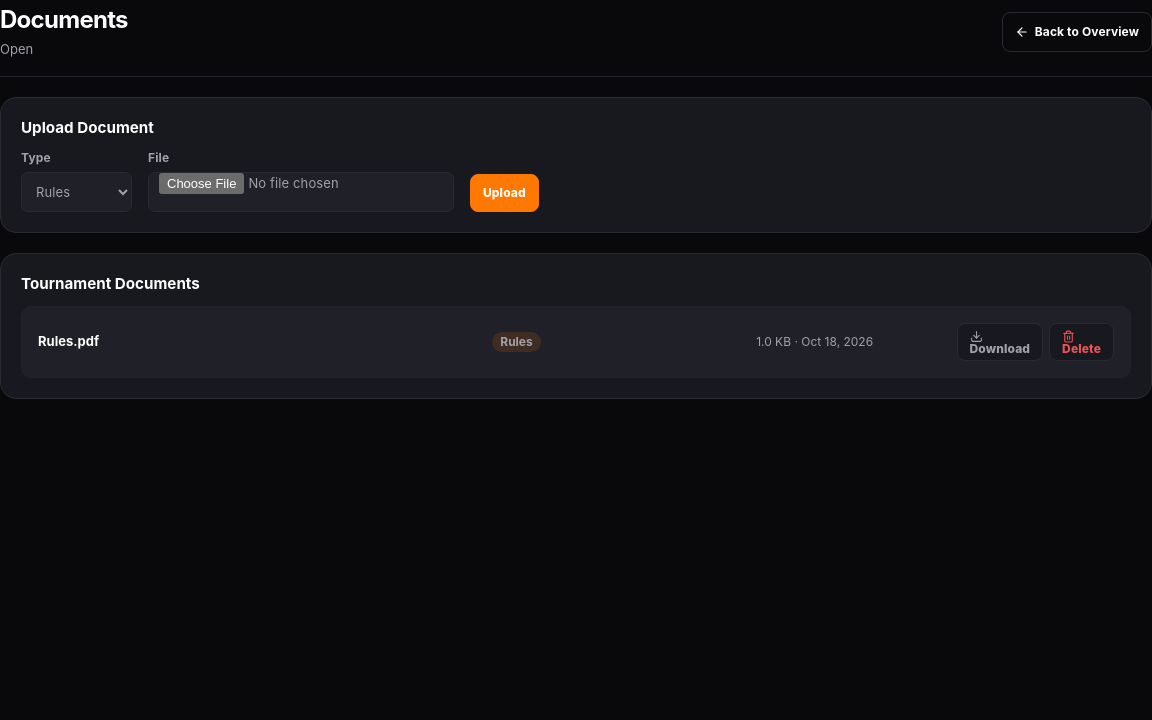
document deletion confirmation › surfaces a failed confirmed deletion and retains the document
This screenshot has width=1152, height=720.
Click the button with aria-label "Delete Rules.pdf".
click(1082, 342)  # box [1049, 323, 1114, 361]
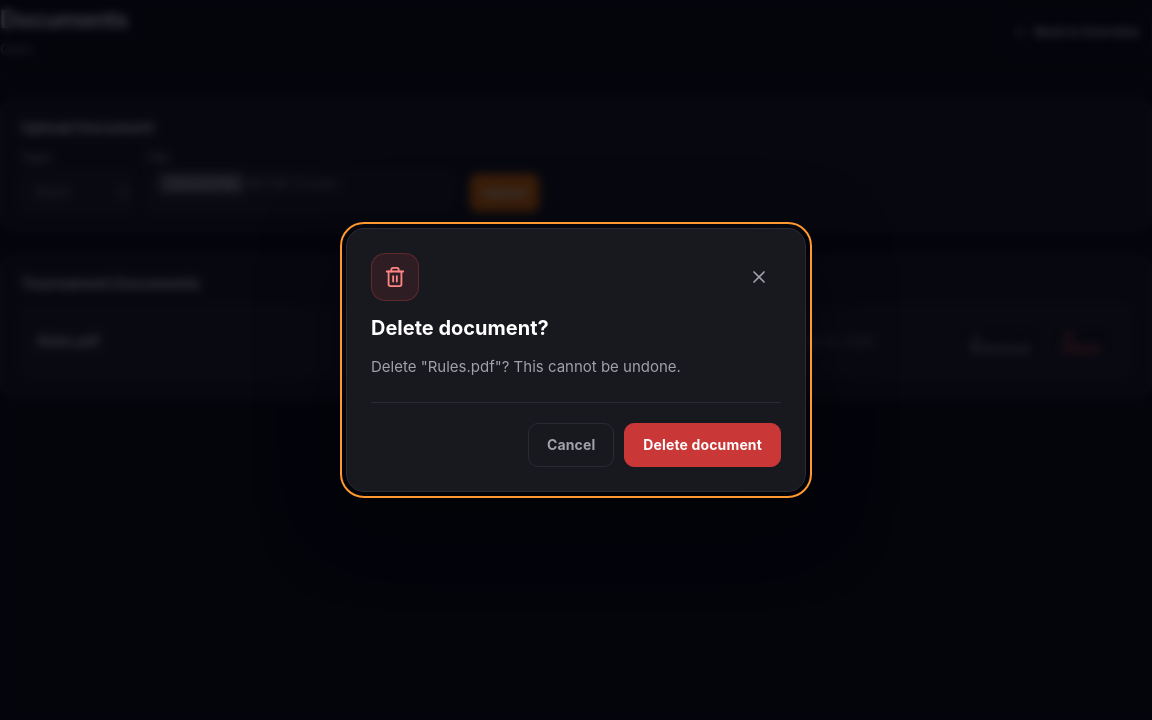
Click the button "Delete document".
click(703, 445)  # box [624, 423, 781, 467]
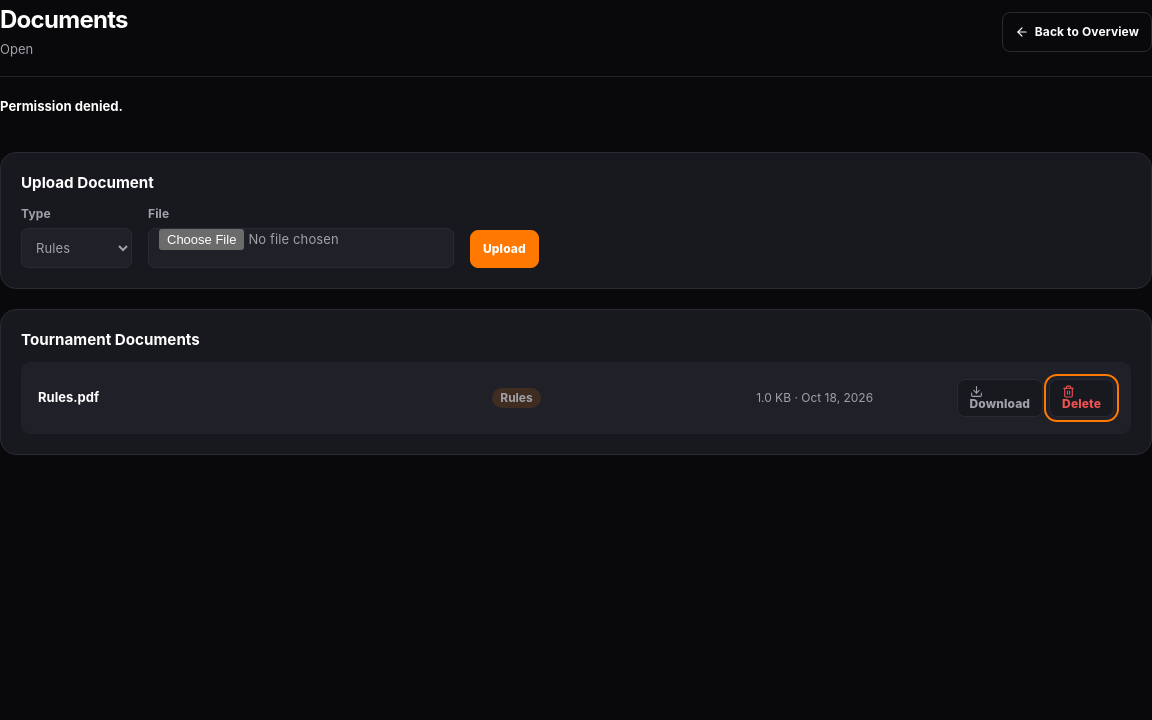
Expected: the text "Rules.pdf" is shown, [38, 389, 99, 405]
Expected: the message reads "Permission denied.", [0, 98, 123, 114]
